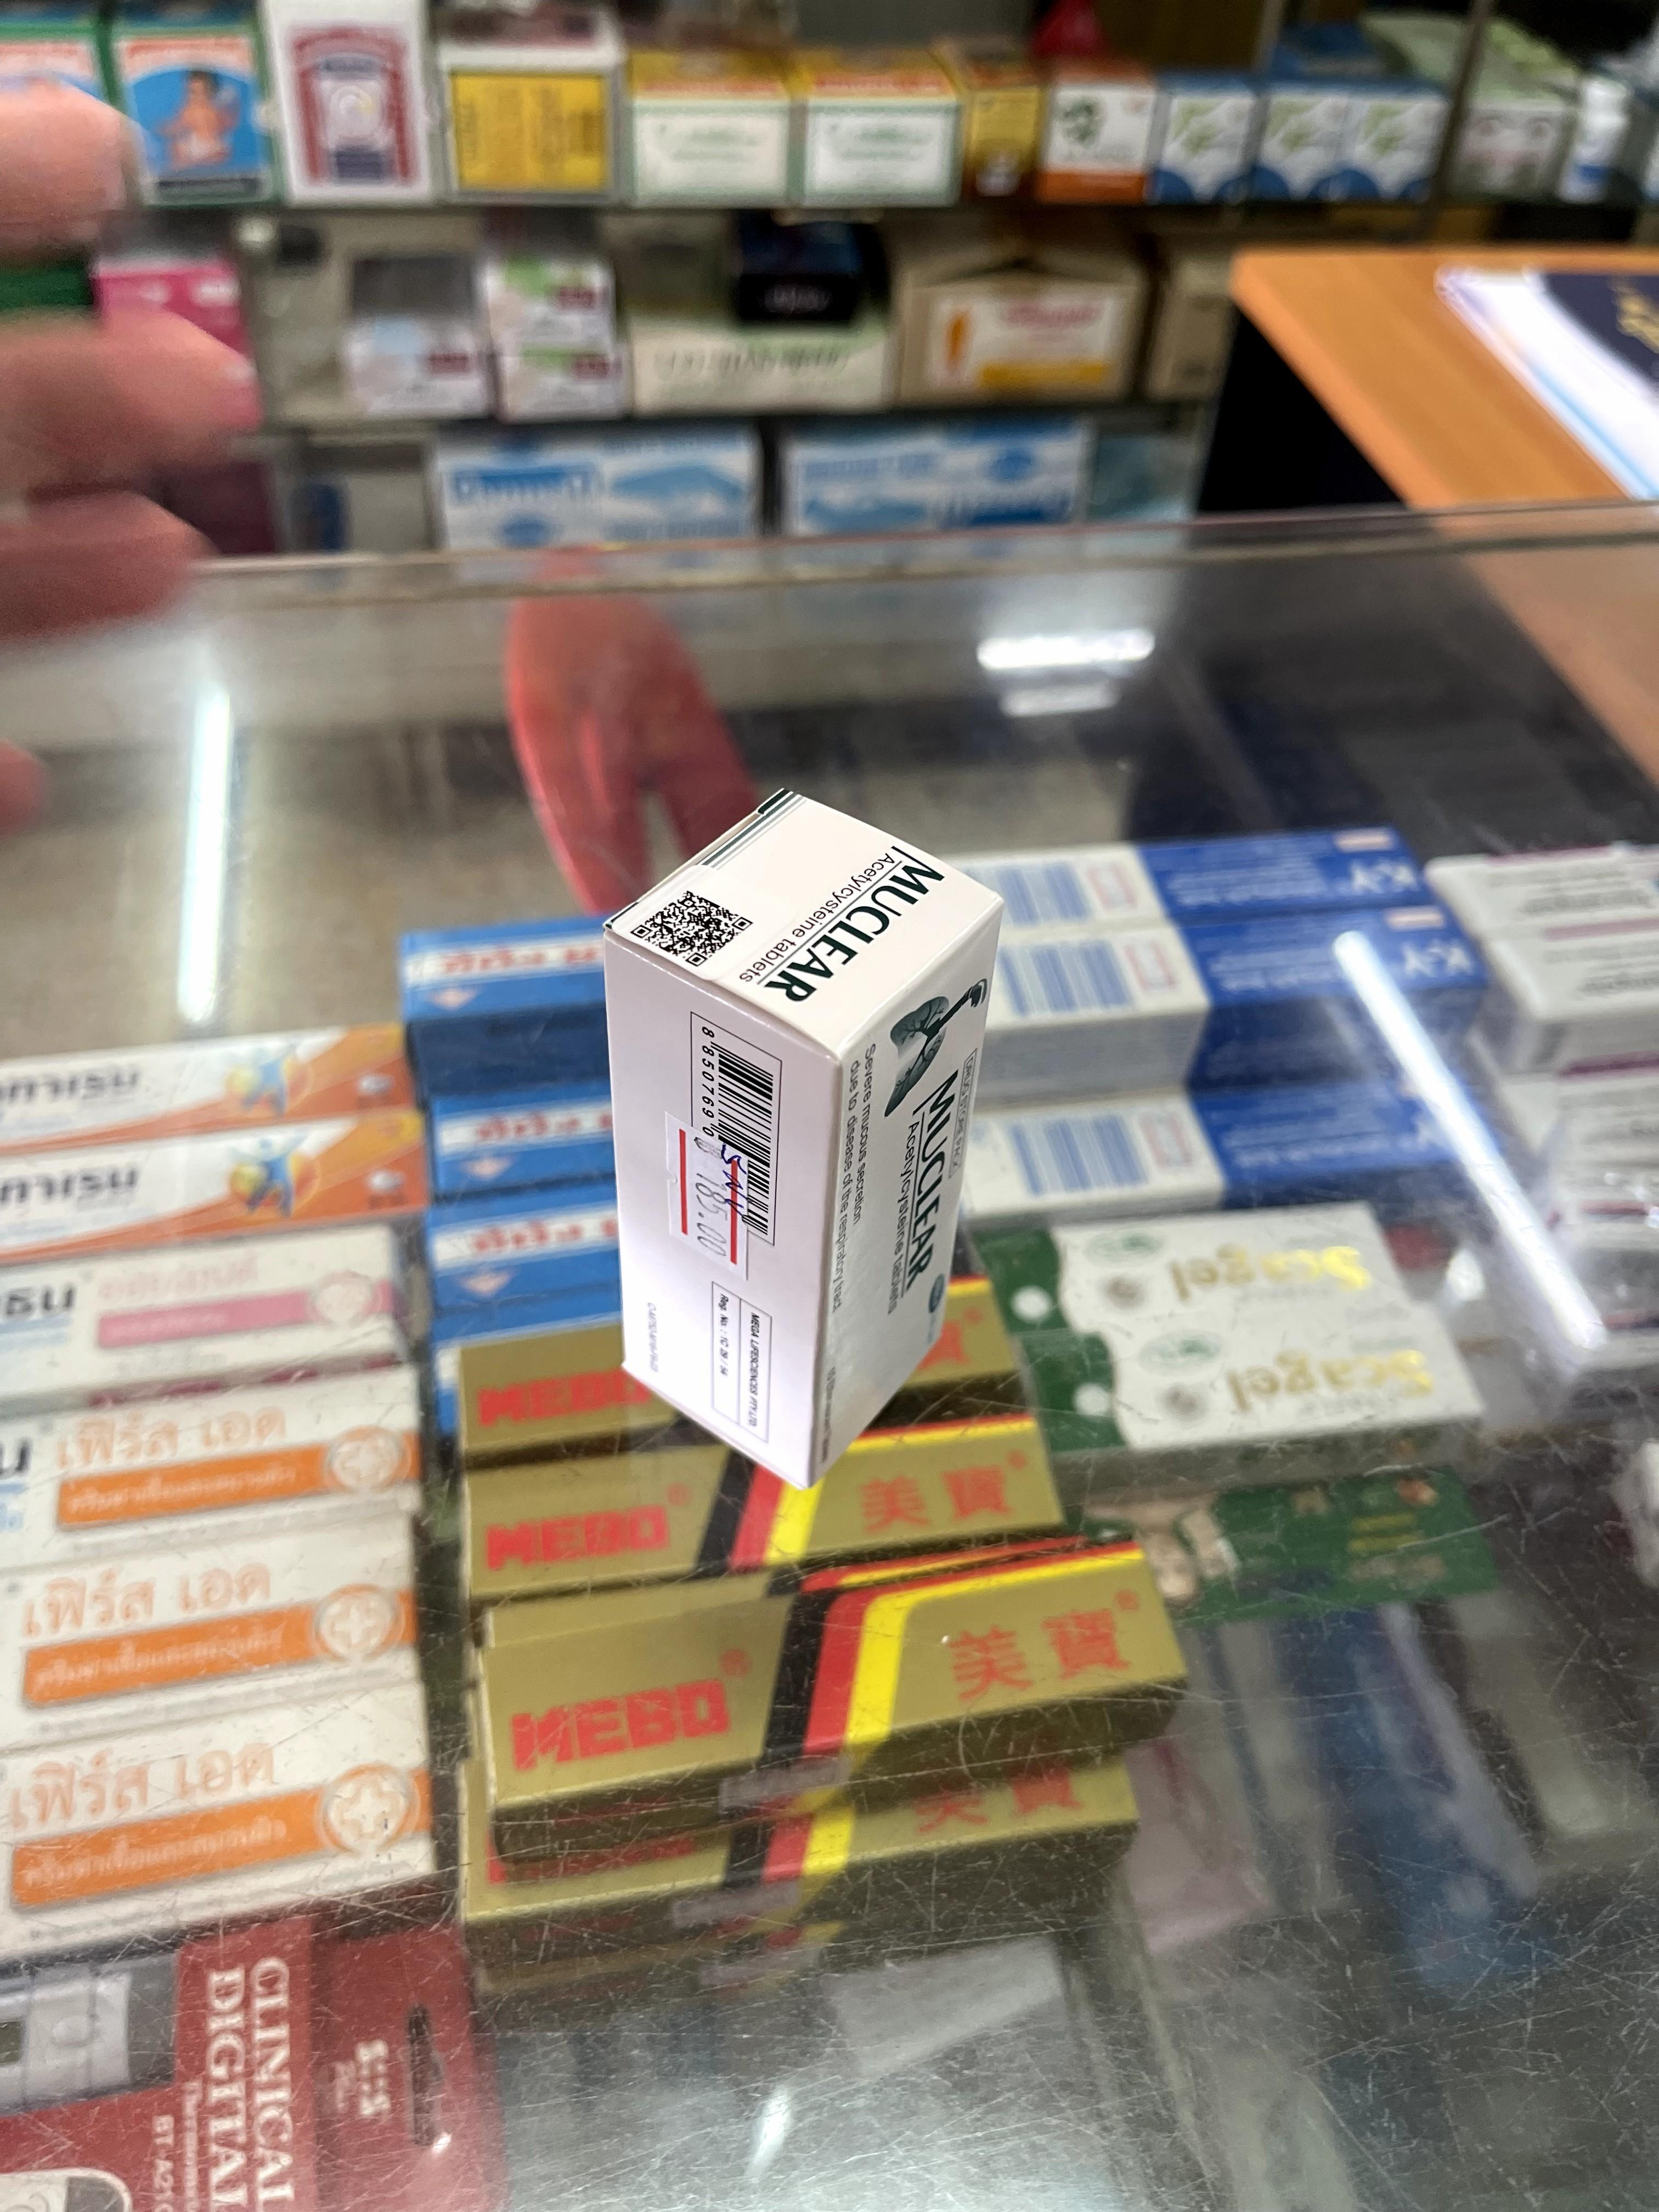Muclear: (598, 784, 1004, 1479)
